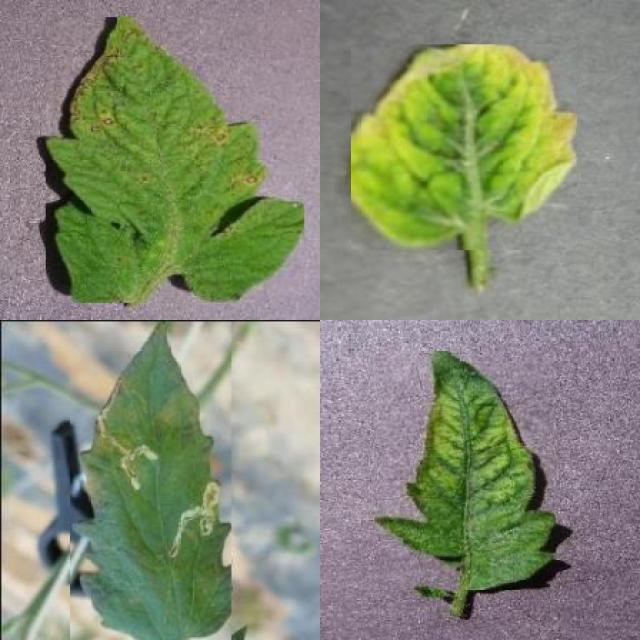Leaf Miner: (70, 321, 231, 640)
Mosaic Virus: (374, 350, 556, 590)
Septoria: (46, 17, 304, 303)
Yellow Leaf Curl Virus: (350, 44, 577, 250)
